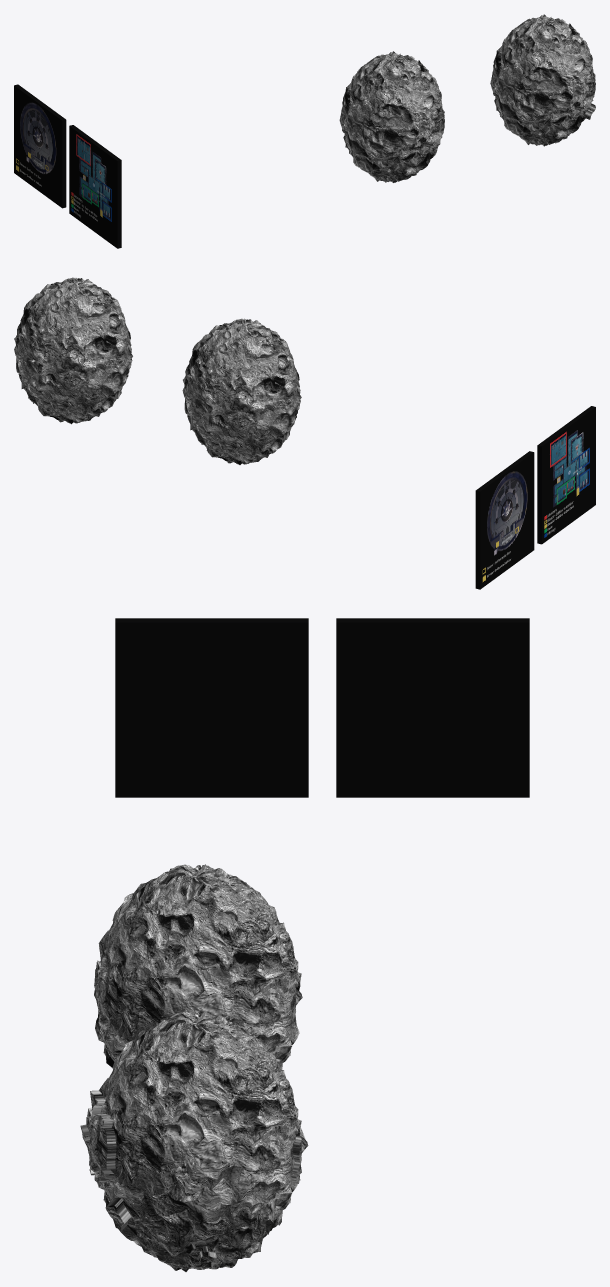
The model's file is egg_capstone.fbx.
3 views of the same model, one above another, from view 1: azimuth 30°, elevation 25°; view 2: azimuth 150°, elevation 25°; view 3: azimuth 270°, elevation 25° (orthographic). The views are drawn at different scales.
Parts seen in each view (by area): view 1: Sphere.002, Sphere.001, Cube.001, Cube.002; view 2: Sphere.001, Sphere.002, Cube.002, Cube.001; view 3: Sphere.002, Cube.001, Cube.002, Sphere.001.
Boxes of the visible parts, x1,y1,x2,y2 form: Sphere.002: [490, 14, 595, 146]; Sphere.001: [339, 51, 444, 182]; Cube.001: [69, 125, 121, 248]; Cube.002: [14, 84, 66, 208]; Sphere.001: [182, 318, 301, 464]; Sphere.002: [14, 277, 132, 424]; Cube.002: [475, 451, 534, 589]; Cube.001: [537, 406, 595, 544]; Sphere.002: [80, 1011, 308, 1271]; Cube.001: [115, 618, 308, 797]; Cube.002: [336, 618, 529, 797]; Sphere.001: [94, 864, 302, 1070].
Bounding box in the file's own units: 1933 × 468 × 762.
